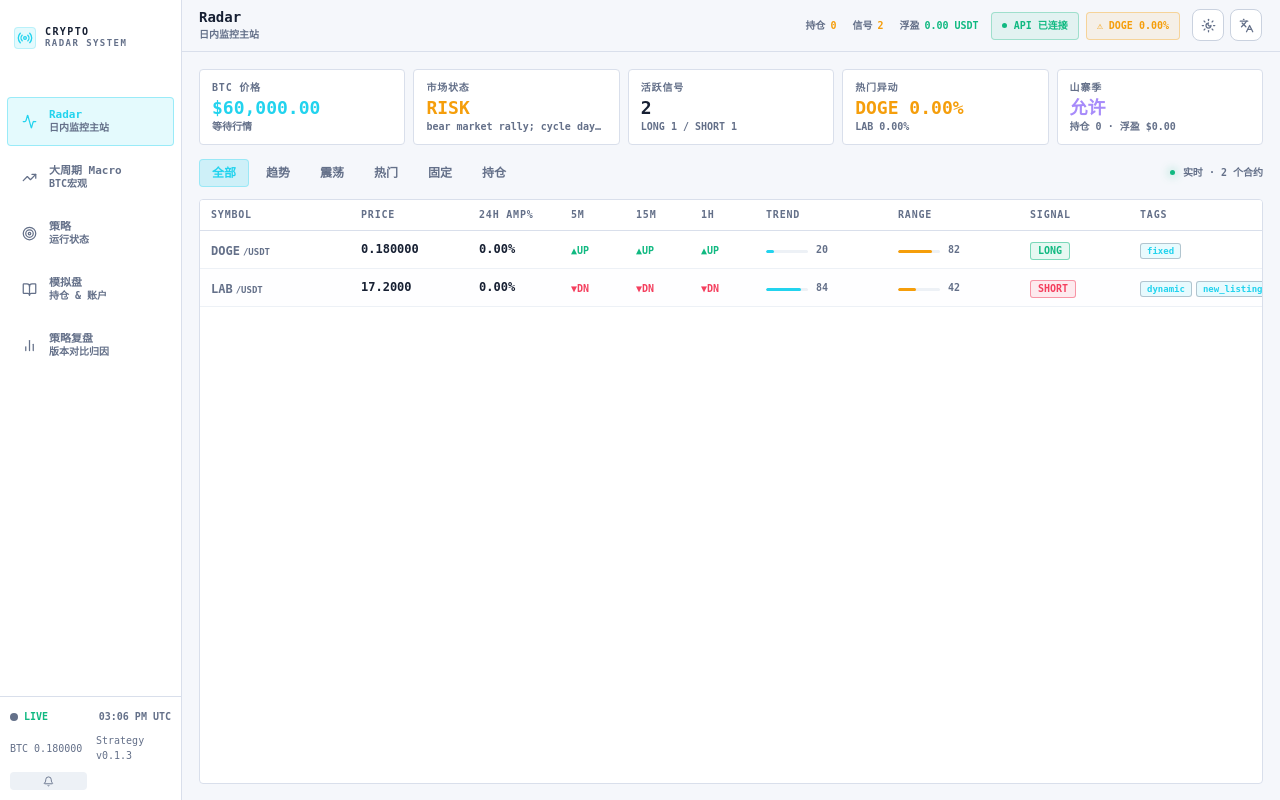
Test: App › prefetches macro data before the macro view is opened
Click the button "大周期 Macro BTC宏观" at (90, 178), box [7,153,174,202]
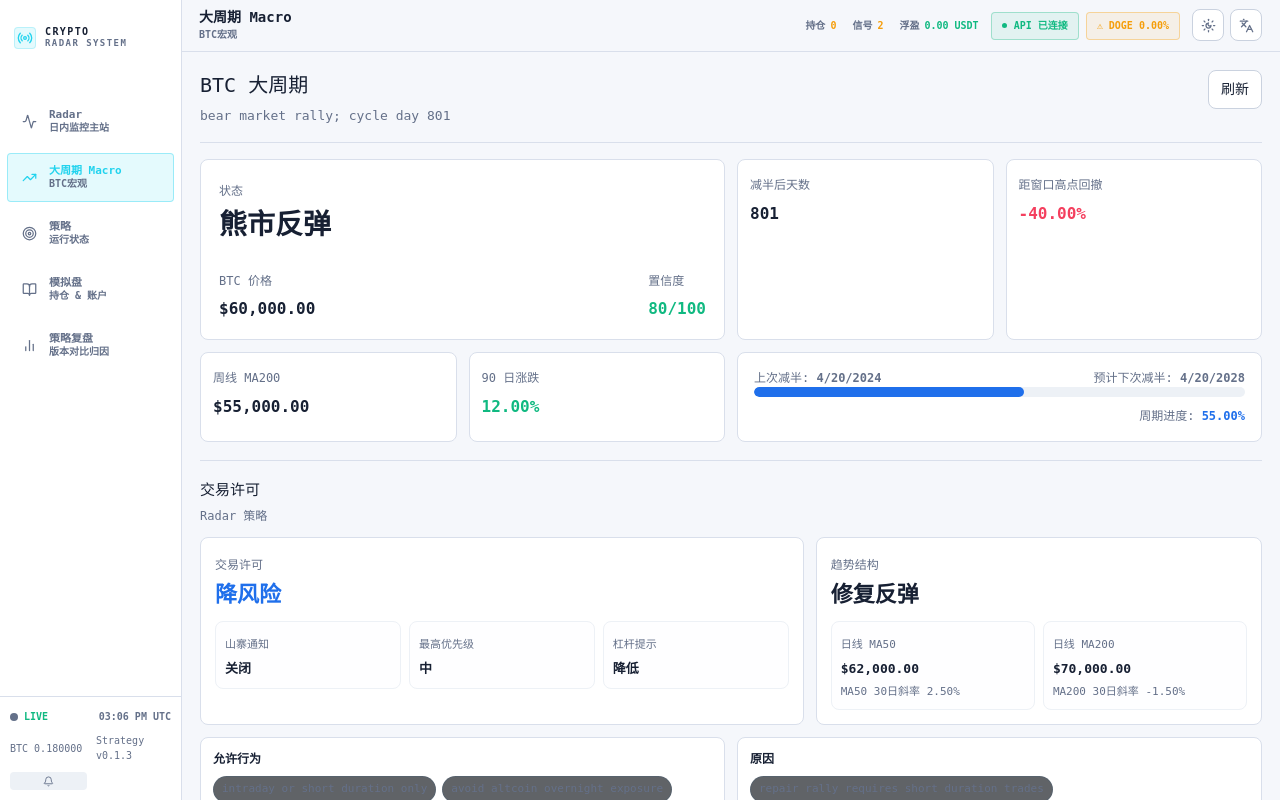
Result: the heading "BTC 大周期" is shown at [200,73,308,97]
